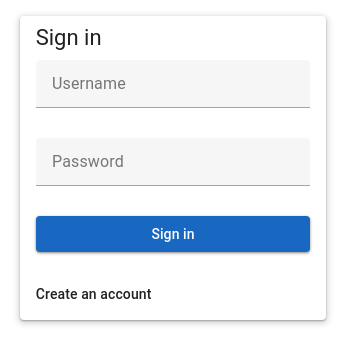
Test case: Feature 1 — User Authentication & Session Management › US-1.2 — Sign in › User signs in with missing username
Type "password123" into the password field labelled "Password" at (173, 162), box 36,138 -> 310,186
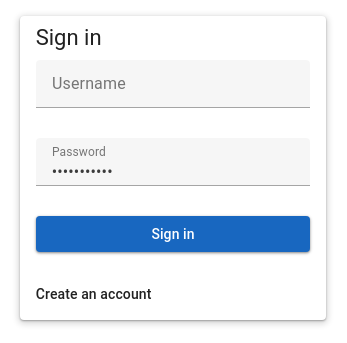
Submit the form, box 36,60 -> 310,252
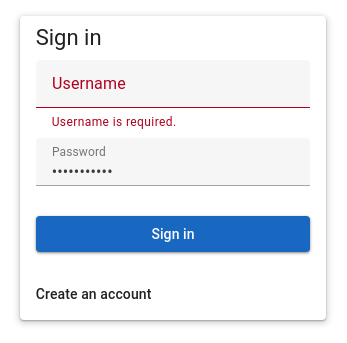
Expected: the text "Username is required." is shown, 52,115 -> 176,129
